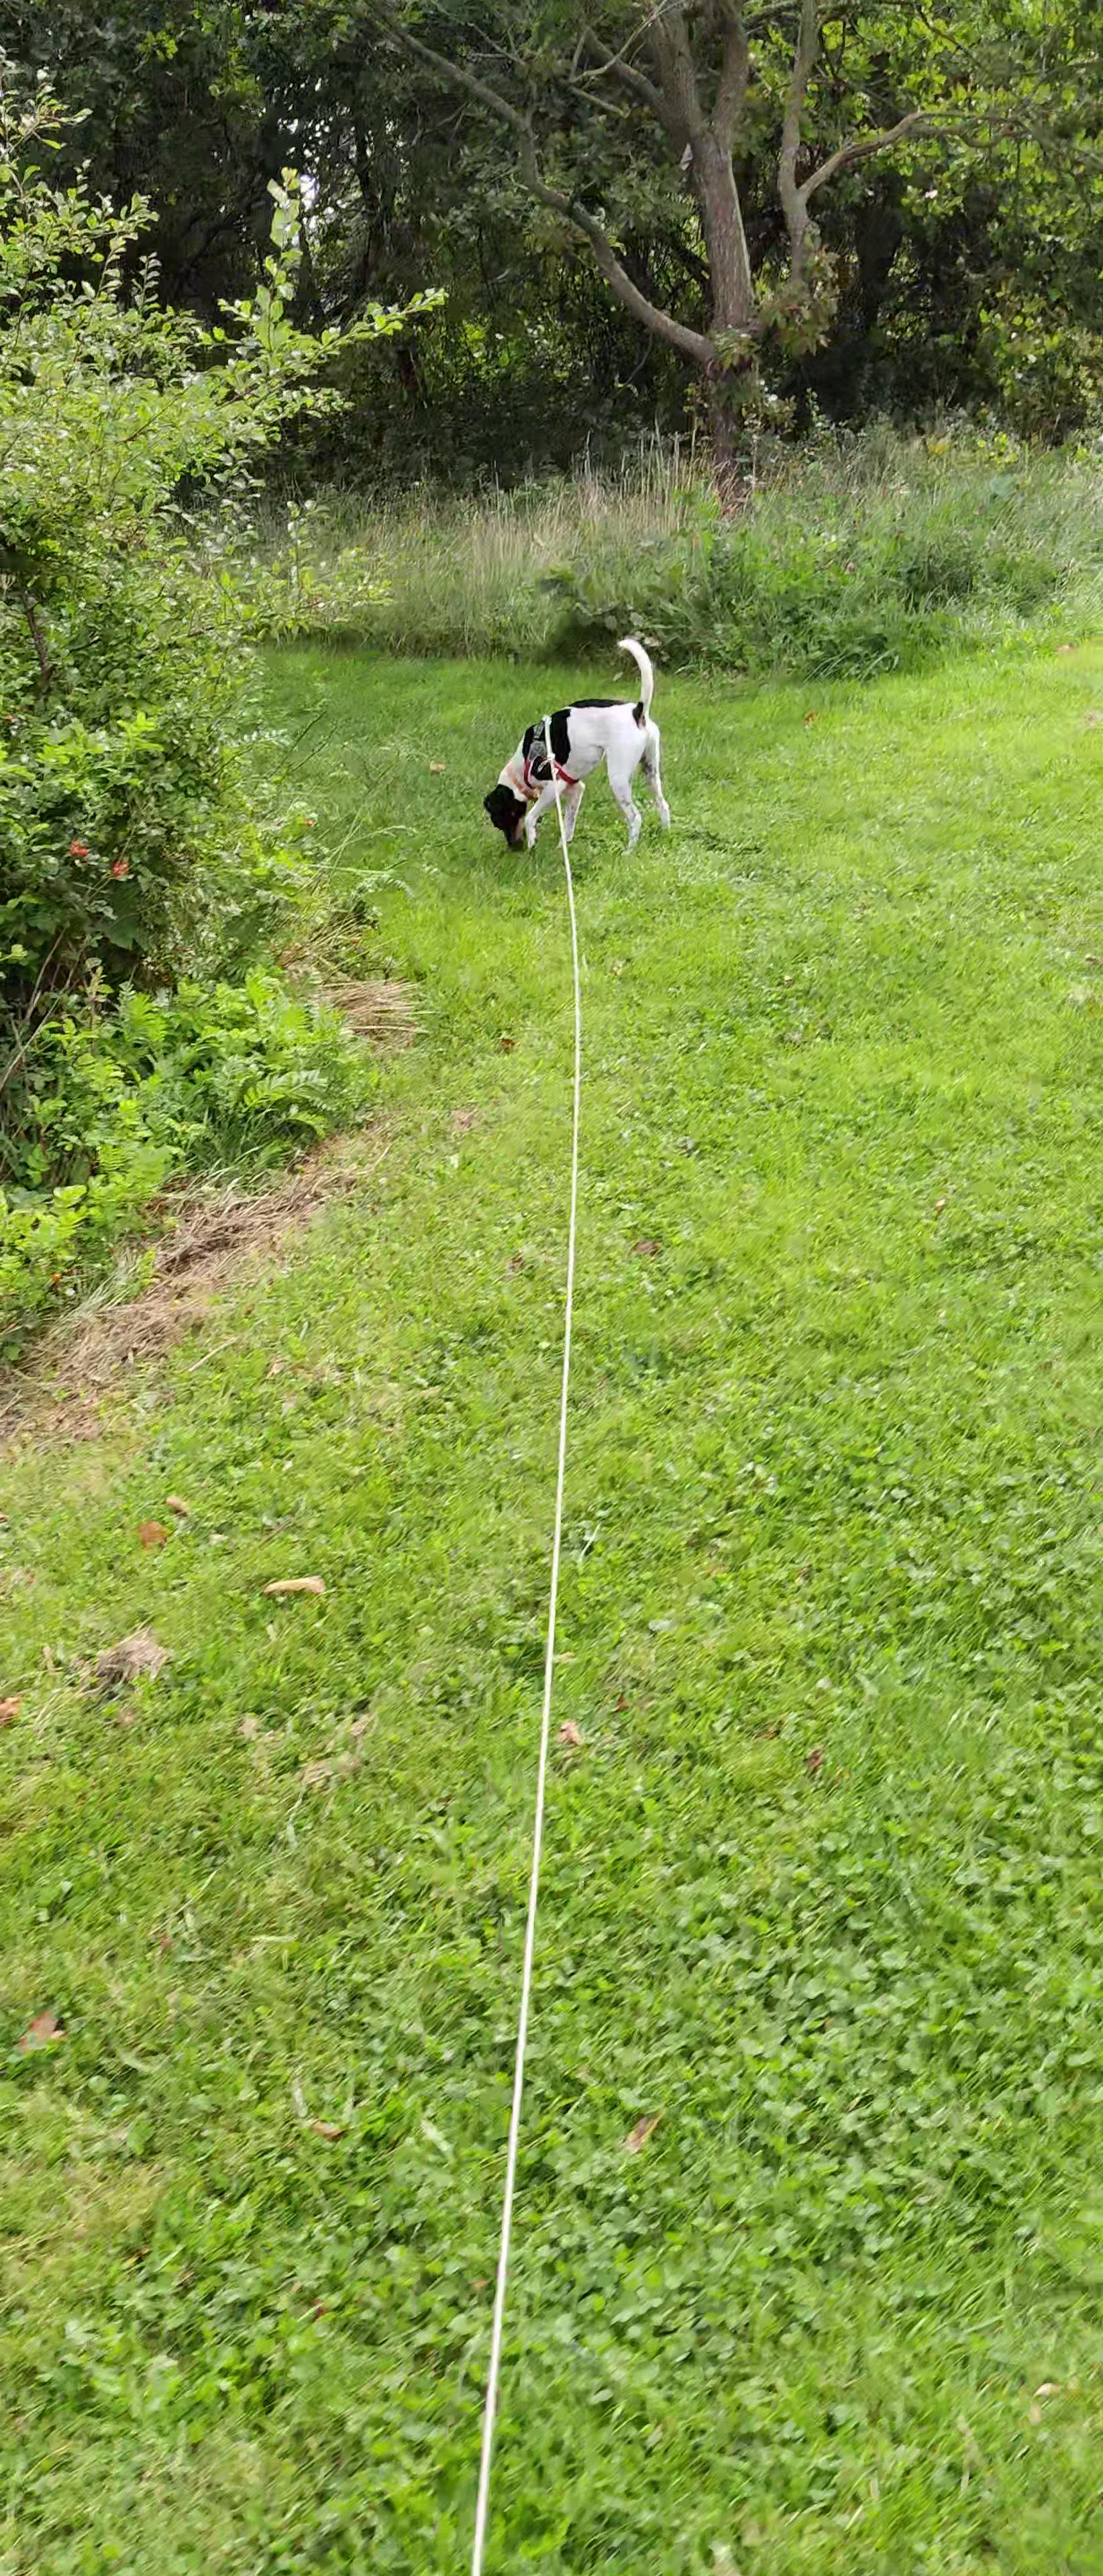Dog: (477, 629, 685, 858)
